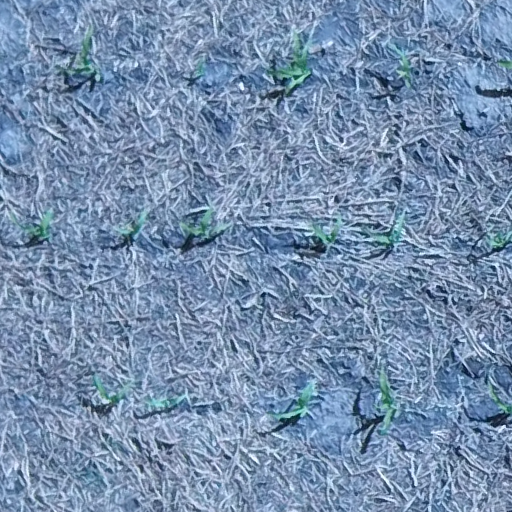planta: (261, 26, 317, 99), (54, 21, 106, 86), (263, 378, 319, 424), (175, 201, 232, 243), (370, 362, 400, 439), (356, 208, 408, 251), (6, 205, 58, 244), (88, 370, 139, 408), (302, 210, 347, 249), (387, 40, 416, 92), (113, 205, 152, 241), (141, 390, 191, 412)
